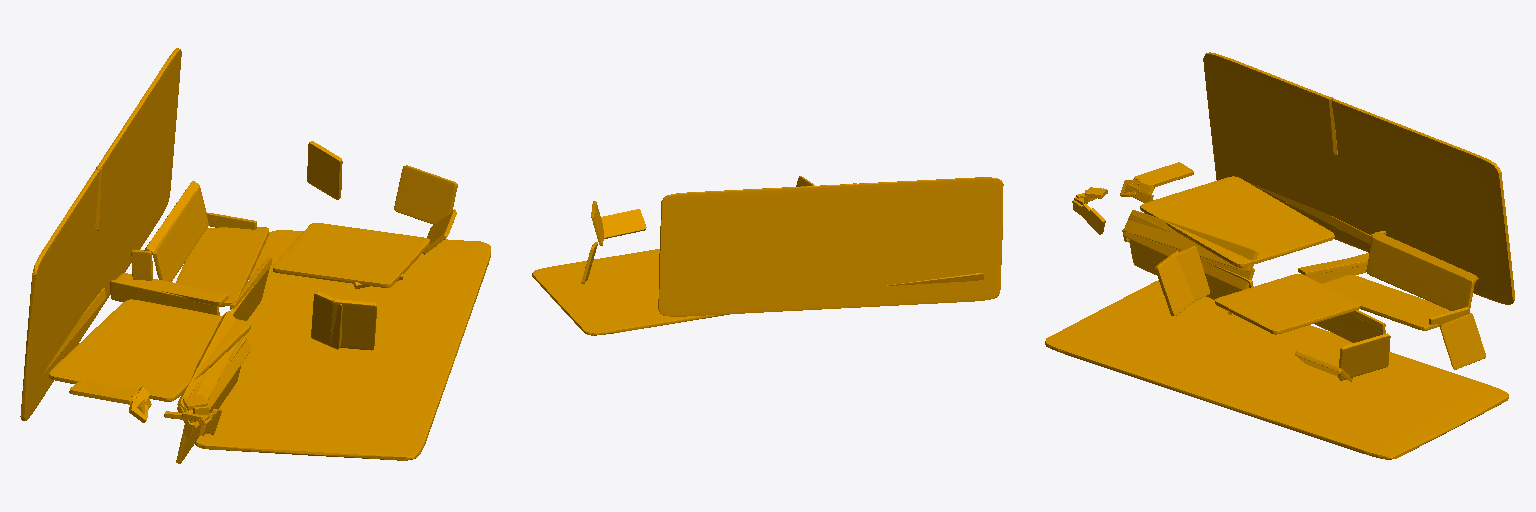
robot.urdf — scene:
<?xml version='1.0' encoding='utf-8'?>
<robot name="scene"><link name="scene_link"><visual><origin xyz="0.000000 0.000000 0.000000" rpy="0.000000 -0.000000 0.000000" /><geometry><mesh filename="part_000.obj" /></geometry></visual><collision><origin xyz="0.000000 0.000000 0.000000" rpy="0.000000 -0.000000 0.000000" /><geometry><mesh filename="part_000.obj" /></geometry></collision><visual><origin xyz="0.000000 0.000000 0.000000" rpy="0.000000 -0.000000 0.000000" /><geometry><mesh filename="part_001.obj" /></geometry></visual><collision><origin xyz="0.000000 0.000000 0.000000" rpy="0.000000 -0.000000 0.000000" /><geometry><mesh filename="part_001.obj" /></geometry></collision><visual><origin xyz="0.000000 0.000000 0.000000" rpy="0.000000 -0.000000 0.000000" /><geometry><mesh filename="part_002.obj" /></geometry></visual><collision><origin xyz="0.000000 0.000000 0.000000" rpy="0.000000 -0.000000 0.000000" /><geometry><mesh filename="part_002.obj" /></geometry></collision><visual><origin xyz="0.000000 0.000000 0.000000" rpy="0.000000 -0.000000 0.000000" /><geometry><mesh filename="part_003.obj" /></geometry></visual><collision><origin xyz="0.000000 0.000000 0.000000" rpy="0.000000 -0.000000 0.000000" /><geometry><mesh filename="part_003.obj" /></geometry></collision><visual><origin xyz="0.000000 0.000000 0.000000" rpy="0.000000 -0.000000 0.000000" /><geometry><mesh filename="part_004.obj" /></geometry></visual><collision><origin xyz="0.000000 0.000000 0.000000" rpy="0.000000 -0.000000 0.000000" /><geometry><mesh filename="part_004.obj" /></geometry></collision><visual><origin xyz="0.000000 0.000000 0.000000" rpy="0.000000 -0.000000 0.000000" /><geometry><mesh filename="part_005.obj" /></geometry></visual><collision><origin xyz="0.000000 0.000000 0.000000" rpy="0.000000 -0.000000 0.000000" /><geometry><mesh filename="part_005.obj" /></geometry></collision><visual><origin xyz="0.000000 0.000000 0.000000" rpy="0.000000 -0.000000 0.000000" /><geometry><mesh filename="part_006.obj" /></geometry></visual><collision><origin xyz="0.000000 0.000000 0.000000" rpy="0.000000 -0.000000 0.000000" /><geometry><mesh filename="part_006.obj" /></geometry></collision><visual><origin xyz="0.000000 0.000000 0.000000" rpy="0.000000 -0.000000 0.000000" /><geometry><mesh filename="part_007.obj" /></geometry></visual><collision><origin xyz="0.000000 0.000000 0.000000" rpy="0.000000 -0.000000 0.000000" /><geometry><mesh filename="part_007.obj" /></geometry></collision><visual><origin xyz="0.000000 0.000000 0.000000" rpy="0.000000 -0.000000 0.000000" /><geometry><mesh filename="part_008.obj" /></geometry></visual><collision><origin xyz="0.000000 0.000000 0.000000" rpy="0.000000 -0.000000 0.000000" /><geometry><mesh filename="part_008.obj" /></geometry></collision><visual><origin xyz="0.000000 0.000000 0.000000" rpy="0.000000 -0.000000 0.000000" /><geometry><mesh filename="part_009.obj" /></geometry></visual><collision><origin xyz="0.000000 0.000000 0.000000" rpy="0.000000 -0.000000 0.000000" /><geometry><mesh filename="part_009.obj" /></geometry></collision><visual><origin xyz="0.000000 0.000000 0.000000" rpy="0.000000 -0.000000 0.000000" /><geometry><mesh filename="part_010.obj" /></geometry></visual><collision><origin xyz="0.000000 0.000000 0.000000" rpy="0.000000 -0.000000 0.000000" /><geometry><mesh filename="part_010.obj" /></geometry></collision><visual><origin xyz="0.000000 0.000000 0.000000" rpy="0.000000 -0.000000 0.000000" /><geometry><mesh filename="part_011.obj" /></geometry></visual><collision><origin xyz="0.000000 0.000000 0.000000" rpy="0.000000 -0.000000 0.000000" /><geometry><mesh filename="part_011.obj" /></geometry></collision><visual><origin xyz="0.000000 0.000000 0.000000" rpy="0.000000 -0.000000 0.000000" /><geometry><mesh filename="part_012.obj" /></geometry></visual><collision><origin xyz="0.000000 0.000000 0.000000" rpy="0.000000 -0.000000 0.000000" /><geometry><mesh filename="part_012.obj" /></geometry></collision><visual><origin xyz="0.000000 0.000000 0.000000" rpy="0.000000 -0.000000 0.000000" /><geometry><mesh filename="part_013.obj" /></geometry></visual><collision><origin xyz="0.000000 0.000000 0.000000" rpy="0.000000 -0.000000 0.000000" /><geometry><mesh filename="part_013.obj" /></geometry></collision><visual><origin xyz="0.000000 0.000000 0.000000" rpy="0.000000 -0.000000 0.000000" /><geometry><mesh filename="part_014.obj" /></geometry></visual><collision><origin xyz="0.000000 0.000000 0.000000" rpy="0.000000 -0.000000 0.000000" /><geometry><mesh filename="part_014.obj" /></geometry></collision><visual><origin xyz="0.000000 0.000000 0.000000" rpy="0.000000 -0.000000 0.000000" /><geometry><mesh filename="part_015.obj" /></geometry></visual><collision><origin xyz="0.000000 0.000000 0.000000" rpy="0.000000 -0.000000 0.000000" /><geometry><mesh filename="part_015.obj" /></geometry></collision><visual><origin xyz="0.000000 0.000000 0.000000" rpy="0.000000 -0.000000 0.000000" /><geometry><mesh filename="part_016.obj" /></geometry></visual><collision><origin xyz="0.000000 0.000000 0.000000" rpy="0.000000 -0.000000 0.000000" /><geometry><mesh filename="part_016.obj" /></geometry></collision><visual><origin xyz="0.000000 0.000000 0.000000" rpy="0.000000 -0.000000 0.000000" /><geometry><mesh filename="part_017.obj" /></geometry></visual><collision><origin xyz="0.000000 0.000000 0.000000" rpy="0.000000 -0.000000 0.000000" /><geometry><mesh filename="part_017.obj" /></geometry></collision><visual><origin xyz="0.000000 0.000000 0.000000" rpy="0.000000 -0.000000 0.000000" /><geometry><mesh filename="part_018.obj" /></geometry></visual><collision><origin xyz="0.000000 0.000000 0.000000" rpy="0.000000 -0.000000 0.000000" /><geometry><mesh filename="part_018.obj" /></geometry></collision><visual><origin xyz="0.000000 0.000000 0.000000" rpy="0.000000 -0.000000 0.000000" /><geometry><mesh filename="part_019.obj" /></geometry></visual><collision><origin xyz="0.000000 0.000000 0.000000" rpy="0.000000 -0.000000 0.000000" /><geometry><mesh filename="part_019.obj" /></geometry></collision><visual><origin xyz="0.000000 0.000000 0.000000" rpy="0.000000 -0.000000 0.000000" /><geometry><mesh filename="part_020.obj" /></geometry></visual><collision><origin xyz="0.000000 0.000000 0.000000" rpy="0.000000 -0.000000 0.000000" /><geometry><mesh filename="part_020.obj" /></geometry></collision><visual><origin xyz="0.000000 0.000000 0.000000" rpy="0.000000 -0.000000 0.000000" /><geometry><mesh filename="part_021.obj" /></geometry></visual><collision><origin xyz="0.000000 0.000000 0.000000" rpy="0.000000 -0.000000 0.000000" /><geometry><mesh filename="part_021.obj" /></geometry></collision><visual><origin xyz="0.000000 0.000000 0.000000" rpy="0.000000 -0.000000 0.000000" /><geometry><mesh filename="part_022.obj" /></geometry></visual><collision><origin xyz="0.000000 0.000000 0.000000" rpy="0.000000 -0.000000 0.000000" /><geometry><mesh filename="part_022.obj" /></geometry></collision><visual><origin xyz="0.000000 0.000000 0.000000" rpy="0.000000 -0.000000 0.000000" /><geometry><mesh filename="part_023.obj" /></geometry></visual><collision><origin xyz="0.000000 0.000000 0.000000" rpy="0.000000 -0.000000 0.000000" /><geometry><mesh filename="part_023.obj" /></geometry></collision><visual><origin xyz="0.000000 0.000000 0.000000" rpy="0.000000 -0.000000 0.000000" /><geometry><mesh filename="part_024.obj" /></geometry></visual><collision><origin xyz="0.000000 0.000000 0.000000" rpy="0.000000 -0.000000 0.000000" /><geometry><mesh filename="part_024.obj" /></geometry></collision><visual><origin xyz="0.000000 0.000000 0.000000" rpy="0.000000 -0.000000 0.000000" /><geometry><mesh filename="part_025.obj" /></geometry></visual><collision><origin xyz="0.000000 0.000000 0.000000" rpy="0.000000 -0.000000 0.000000" /><geometry><mesh filename="part_025.obj" /></geometry></collision><visual><origin xyz="0.000000 0.000000 0.000000" rpy="0.000000 -0.000000 0.000000" /><geometry><mesh filename="part_026.obj" /></geometry></visual><collision><origin xyz="0.000000 0.000000 0.000000" rpy="0.000000 -0.000000 0.000000" /><geometry><mesh filename="part_026.obj" /></geometry></collision><visual><origin xyz="0.000000 0.000000 0.000000" rpy="0.000000 -0.000000 0.000000" /><geometry><mesh filename="part_027.obj" /></geometry></visual><collision><origin xyz="0.000000 0.000000 0.000000" rpy="0.000000 -0.000000 0.000000" /><geometry><mesh filename="part_027.obj" /></geometry></collision><visual><origin xyz="0.000000 0.000000 0.000000" rpy="0.000000 -0.000000 0.000000" /><geometry><mesh filename="part_028.obj" /></geometry></visual><collision><origin xyz="0.000000 0.000000 0.000000" rpy="0.000000 -0.000000 0.000000" /><geometry><mesh filename="part_028.obj" /></geometry></collision><visual><origin xyz="0.000000 0.000000 0.000000" rpy="0.000000 -0.000000 0.000000" /><geometry><mesh filename="part_029.obj" /></geometry></visual><collision><origin xyz="0.000000 0.000000 0.000000" rpy="0.000000 -0.000000 0.000000" /><geometry><mesh filename="part_029.obj" /></geometry></collision><visual><origin xyz="0.000000 0.000000 0.000000" rpy="0.000000 -0.000000 0.000000" /><geometry><mesh filename="part_030.obj" /></geometry></visual><collision><origin xyz="0.000000 0.000000 0.000000" rpy="0.000000 -0.000000 0.000000" /><geometry><mesh filename="part_030.obj" /></geometry></collision><visual><origin xyz="0.000000 0.000000 0.000000" rpy="0.000000 -0.000000 0.000000" /><geometry><mesh filename="part_031.obj" /></geometry></visual><collision><origin xyz="0.000000 0.000000 0.000000" rpy="0.000000 -0.000000 0.000000" /><geometry><mesh filename="part_031.obj" /></geometry></collision><visual><origin xyz="0.000000 0.000000 0.000000" rpy="0.000000 -0.000000 0.000000" /><geometry><mesh filename="part_032.obj" /></geometry></visual><collision><origin xyz="0.000000 0.000000 0.000000" rpy="0.000000 -0.000000 0.000000" /><geometry><mesh filename="part_032.obj" /></geometry></collision><visual><origin xyz="0.000000 0.000000 0.000000" rpy="0.000000 -0.000000 0.000000" /><geometry><mesh filename="part_033.obj" /></geometry></visual><collision><origin xyz="0.000000 0.000000 0.000000" rpy="0.000000 -0.000000 0.000000" /><geometry><mesh filename="part_033.obj" /></geometry></collision><visual><origin xyz="0.000000 0.000000 0.000000" rpy="0.000000 -0.000000 0.000000" /><geometry><mesh filename="part_034.obj" /></geometry></visual><collision><origin xyz="0.000000 0.000000 0.000000" rpy="0.000000 -0.000000 0.000000" /><geometry><mesh filename="part_034.obj" /></geometry></collision><visual><origin xyz="0.000000 0.000000 0.000000" rpy="0.000000 -0.000000 0.000000" /><geometry><mesh filename="part_035.obj" /></geometry></visual><collision><origin xyz="0.000000 0.000000 0.000000" rpy="0.000000 -0.000000 0.000000" /><geometry><mesh filename="part_035.obj" /></geometry></collision><visual><origin xyz="0.000000 0.000000 0.000000" rpy="0.000000 -0.000000 0.000000" /><geometry><mesh filename="part_036.obj" /></geometry></visual><collision><origin xyz="0.000000 0.000000 0.000000" rpy="0.000000 -0.000000 0.000000" /><geometry><mesh filename="part_036.obj" /></geometry></collision><visual><origin xyz="0.000000 0.000000 0.000000" rpy="0.000000 -0.000000 0.000000" /><geometry><mesh filename="part_037.obj" /></geometry></visual><collision><origin xyz="0.000000 0.000000 0.000000" rpy="0.000000 -0.000000 0.000000" /><geometry><mesh filename="part_037.obj" /></geometry></collision><visual><origin xyz="0.000000 0.000000 0.000000" rpy="0.000000 -0.000000 0.000000" /><geometry><mesh filename="part_038.obj" /></geometry></visual><collision><origin xyz="0.000000 0.000000 0.000000" rpy="0.000000 -0.000000 0.000000" /><geometry><mesh filename="part_038.obj" /></geometry></collision><visual><origin xyz="0.000000 0.000000 0.000000" rpy="0.000000 -0.000000 0.000000" /><geometry><mesh filename="part_039.obj" /></geometry></visual><collision><origin xyz="0.000000 0.000000 0.000000" rpy="0.000000 -0.000000 0.000000" /><geometry><mesh filename="part_039.obj" /></geometry></collision><visual><origin xyz="0.000000 0.000000 0.000000" rpy="0.000000 -0.000000 0.000000" /><geometry><mesh filename="part_040.obj" /></geometry></visual><collision><origin xyz="0.000000 0.000000 0.000000" rpy="0.000000 -0.000000 0.000000" /><geometry><mesh filename="part_040.obj" /></geometry></collision><visual><origin xyz="0.000000 0.000000 0.000000" rpy="0.000000 -0.000000 0.000000" /><geometry><mesh filename="part_041.obj" /></geometry></visual><collision><origin xyz="0.000000 0.000000 0.000000" rpy="0.000000 -0.000000 0.000000" /><geometry><mesh filename="part_041.obj" /></geometry></collision><visual><origin xyz="0.000000 0.000000 0.000000" rpy="0.000000 -0.000000 0.000000" /><geometry><mesh filename="part_042.obj" /></geometry></visual><collision><origin xyz="0.000000 0.000000 0.000000" rpy="0.000000 -0.000000 0.000000" /><geometry><mesh filename="part_042.obj" /></geometry></collision><visual><origin xyz="0.000000 0.000000 0.000000" rpy="0.000000 -0.000000 0.000000" /><geometry><mesh filename="part_043.obj" /></geometry></visual><collision><origin xyz="0.000000 0.000000 0.000000" rpy="0.000000 -0.000000 0.000000" /><geometry><mesh filename="part_043.obj" /></geometry></collision></link></robot>

--- Render facts (derived) ---
Views: 3 orthographic renders of the robot side by side, from view 1: azimuth 30°, elevation 25°; view 2: azimuth 150°, elevation 25°; view 3: azimuth 270°, elevation 25°.
Model scene with 1 links and 0 joints (none), rooted at scene_link, posed every joint at zero.
Visible links, largest first — view 1: scene_link; view 2: scene_link; view 3: scene_link.
Link boxes in pixels (<box>): scene_link: <box>20,48,490,463</box>; scene_link: <box>532,176,1003,335</box>; scene_link: <box>1045,52,1514,459</box>.
Bounding box of the posed robot: 5.31 × 4.39 × 1.98 m (x, y, z).
44 mesh visuals loaded from 44 distinct referenced files (44 OBJ).